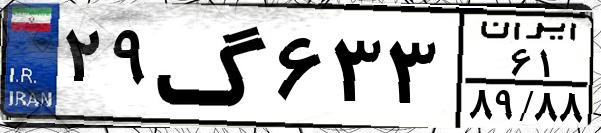1: (537, 27, 568, 80)
2: (57, 26, 110, 100)
3: (385, 28, 445, 110), (330, 28, 385, 110)
6: (270, 28, 330, 110), (508, 27, 537, 80)
8: (560, 70, 590, 125), (470, 70, 495, 125), (535, 70, 560, 125)
9: (110, 28, 156, 98), (495, 70, 520, 125)
گ: (156, 12, 270, 120)
